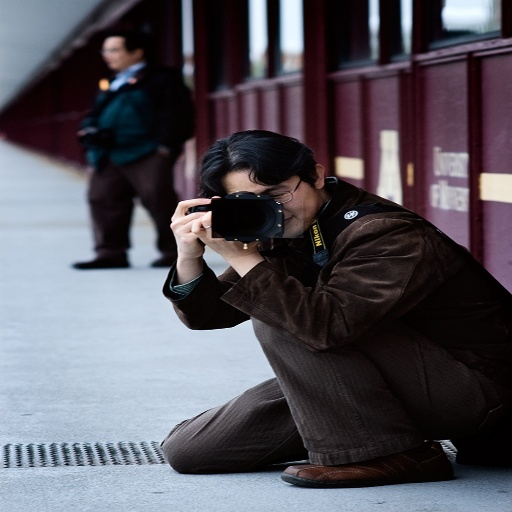hand: (190, 210, 259, 256), (166, 202, 222, 249)
